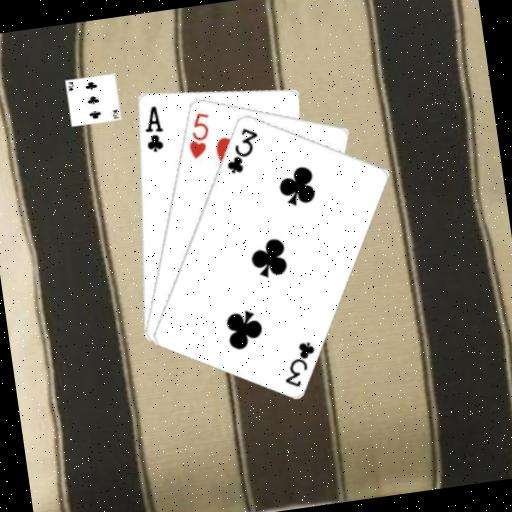3C: (218, 123, 264, 177), (277, 337, 322, 390)
5H: (181, 108, 217, 162)
AC: (138, 102, 168, 155)
